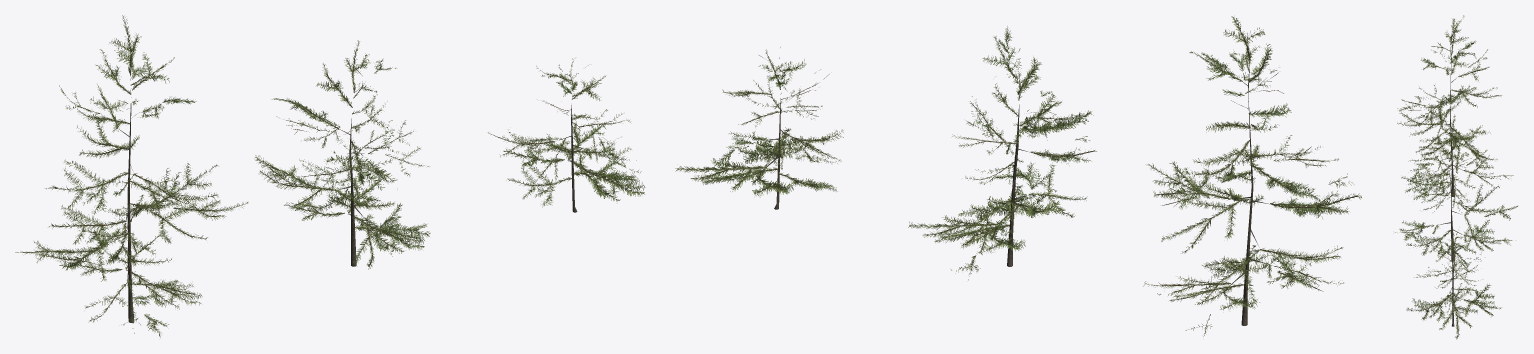
The model's file is fir_sapling.glb.
3 renders of one model, left to right at view 1: azimuth 30°, elevation 25°; view 2: azimuth 150°, elevation 25°; view 3: azimuth 270°, elevation 25°, orthographic. The views are drawn at different scales.
Visible parts, largest first — view 1: fir_sapling_a, fir_sapling_b, fir_sapling_c; view 2: fir_sapling_a, fir_sapling_b, fir_sapling_c; view 3: fir_sapling_a, fir_sapling_b, fir_sapling_c.
Part boxes in pixels (x1,y1,x2,y2): fir_sapling_a: [15, 15, 248, 337]; fir_sapling_b: [255, 40, 430, 269]; fir_sapling_c: [488, 58, 645, 212]; fir_sapling_a: [1143, 16, 1361, 336]; fir_sapling_b: [908, 26, 1096, 280]; fir_sapling_c: [675, 47, 843, 209]; fir_sapling_a: [1397, 15, 1513, 207]; fir_sapling_b: [1395, 129, 1517, 273]; fir_sapling_c: [1406, 232, 1501, 339].
Size of the model in its own units: 2 by 0.9484 by 0.5955.
Materials: 2 (2 with a texture image).
